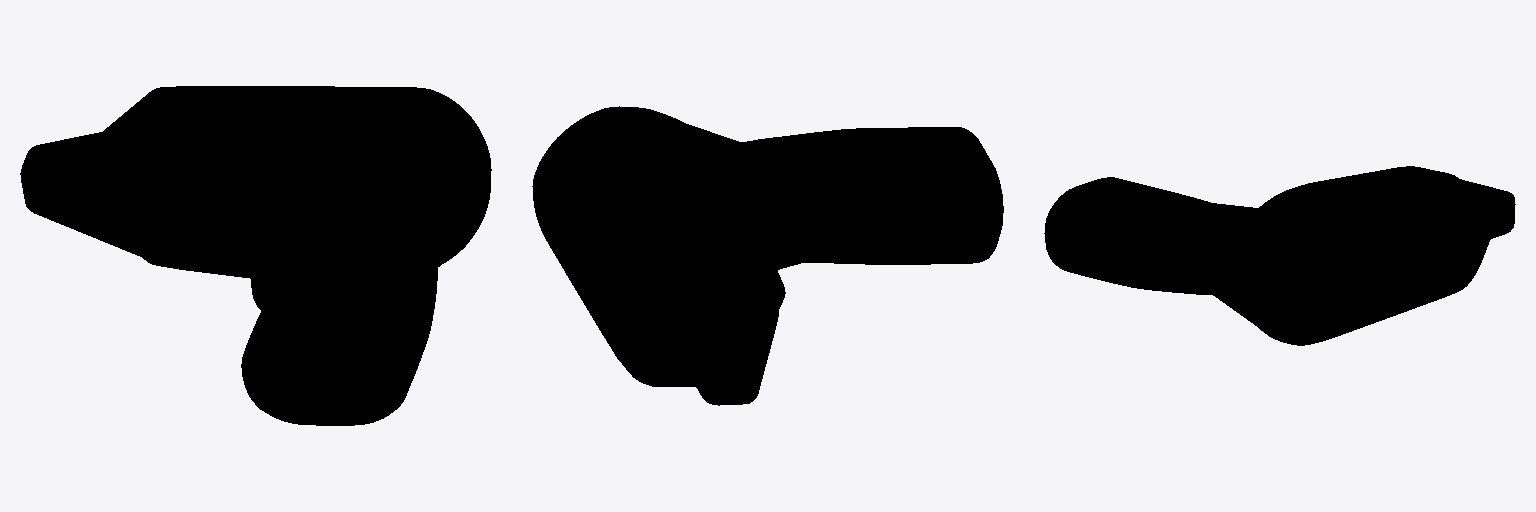
URDF robot description (graspnet-025):

<robot name="graspnet-025">
  <link name="link_graspnet-025">
    <inertial>
      <origin xyz="0 0 0" rpy="0 0 0"/>
    </inertial>
    <visual>
      <origin xyz="0 0 0" rpy="0 0 0"/>
      <geometry>
        <mesh filename="decomposed.obj"/>
      </geometry>
      <material name="">
        <color rgba="0 0 0 1"/>
      </material>
    </visual>
    <collision>
      <origin xyz="0 0 0" rpy="0 0 0"/>
      <geometry>
        <mesh filename="decomposed.obj"/>
      </geometry>
    </collision>
  </link>
</robot>

--- Facts derived from the render (not from the file) ---
Views: 3 orthographic renders of the robot side by side, from view 1: azimuth 30°, elevation 25°; view 2: azimuth 150°, elevation 25°; view 3: azimuth 270°, elevation 25°.
Robot: graspnet-025 — 1 links, 0 joints (none); root link link_graspnet-025; default pose: every joint at zero.
Visible links, largest first — view 1: link_graspnet-025; view 2: link_graspnet-025; view 3: link_graspnet-025.
Link boxes in pixels (x1=…): link_graspnet-025: x1=20, y1=86, x2=491, y2=425; link_graspnet-025: x1=532, y1=106, x2=1003, y2=405; link_graspnet-025: x1=1044, y1=166, x2=1515, y2=345.
Size in the robot's own frame: 0.122 by 0.183 by 0.0611 metres.
1 mesh visuals loaded from 1 distinct referenced files (1 OBJ).
